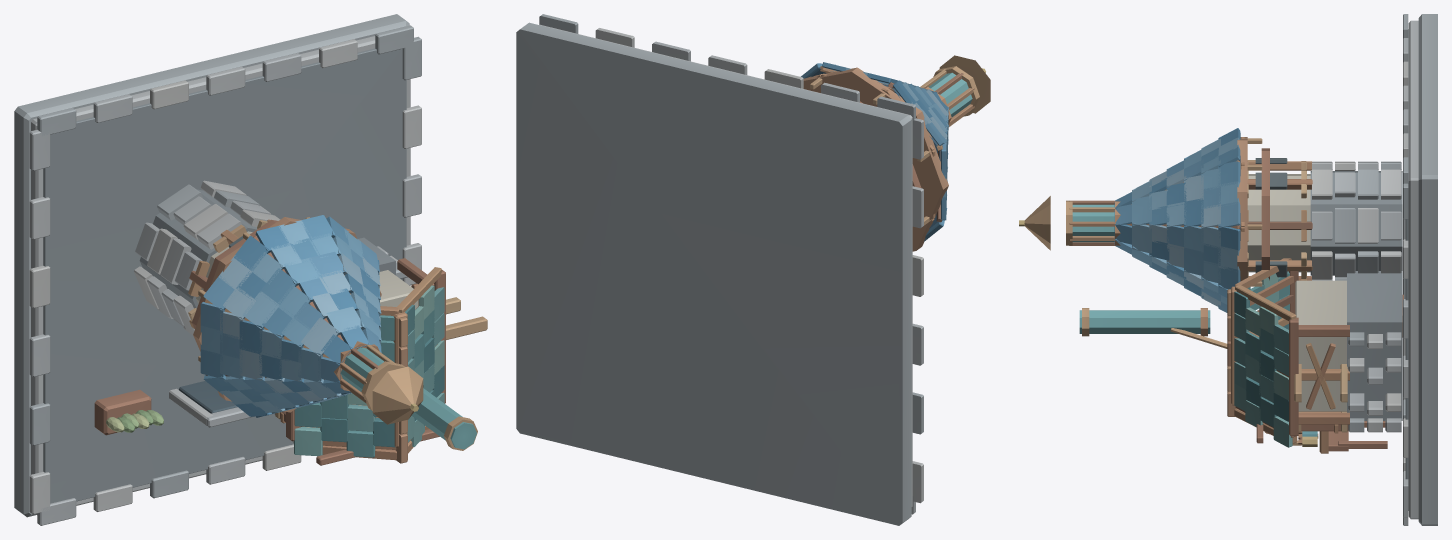
File: alchemy_tower_stage_3.glb
3 views of the same model, side by side, from view 1: azimuth 30°, elevation 25°; view 2: azimuth 150°, elevation 25°; view 3: azimuth 270°, elevation 25° (orthographic). The views are drawn at different scales.
Parts seen in each view (by area): view 1: alchemy_tower_stage_3_foundation_mortar_seam, alchemy_tower_stage_3_foundation_footing, alchemy_tower_stage_3_foundation_cap, crown_lantern_copper_roof, alchemy_tower_stage_3_main_tower_mortar_core, alchemy_tower_stage_3_vertical_glass_condenser, alchemy_tower_stage_3_herb_planter_trough, alchemy_tower_stage_3_tower_door_dark_recess, alchemy_tower_stage_3_workshop_frame_upper_infill, alchemy_tower_stage_3_foundation_left_paver_1, alchemy_tower_stage_3_foundation_left_paver_2, alchemy_tower_stage_3_foundation_left_paver_3 (+60 smaller); view 2: alchemy_tower_stage_3_foundation_footing, roof_eave_ring, alchemy_tower_stage_3_foundation_cap, crown_lantern_copper_roof, crown_lantern_glass_body; view 3: alchemy_tower_stage_3_foundation_footing, alchemy_tower_stage_3_workshop_foundation_mortar_core, alchemy_tower_stage_3_foundation_cap, alchemy_tower_stage_3_workshop_frame_upper_infill, alchemy_tower_stage_3_main_tower_timber_core, alchemy_tower_stage_3_main_tower_mortar_core, alchemy_tower_stage_3_vertical_glass_condenser, roof_eave_ring, crown_lantern_glass_body, alchemy_tower_stage_3_tower_balcony_deck, alchemy_tower_stage_3_workshop_roof_right_eave, crown_lantern_copper_roof (+21 smaller).
Part boxes in pixels (x1=…): alchemy_tower_stage_3_foundation_mortar_seam: x1=43, y1=48, x2=406, y2=503; alchemy_tower_stage_3_foundation_footing: x1=14, y1=14, x2=409, y2=517; alchemy_tower_stage_3_foundation_cap: x1=31, y1=36, x2=410, y2=514; crown_lantern_copper_roof: x1=372, y1=366, x2=423, y2=424; alchemy_tower_stage_3_main_tower_mortar_core: x1=139, y1=189, x2=257, y2=308; alchemy_tower_stage_3_vertical_glass_condenser: x1=411, y1=388, x2=476, y2=449; alchemy_tower_stage_3_herb_planter_trough: x1=94, y1=389, x2=151, y2=435; alchemy_tower_stage_3_tower_door_dark_recess: x1=179, y1=381, x2=237, y2=413; alchemy_tower_stage_3_workshop_frame_upper_infill: x1=349, y1=270, x2=418, y2=404; alchemy_tower_stage_3_foundation_left_paver_1: x1=29, y1=403, x2=50, y2=445; alchemy_tower_stage_3_foundation_left_paver_2: x1=29, y1=334, x2=50, y2=376; alchemy_tower_stage_3_foundation_left_paver_3: x1=29, y1=265, x2=50, y2=308; alchemy_tower_stage_3_foundation_footing: x1=516, y1=22, x2=911, y2=525; roof_eave_ring: x1=803, y1=67, x2=948, y2=251; alchemy_tower_stage_3_foundation_cap: x1=539, y1=24, x2=912, y2=506; crown_lantern_copper_roof: x1=939, y1=55, x2=990, y2=113; crown_lantern_glass_body: x1=929, y1=72, x2=972, y2=117; alchemy_tower_stage_3_foundation_footing: x1=1418, y1=14, x2=1437, y2=525; alchemy_tower_stage_3_workshop_foundation_mortar_core: x1=1347, y1=271, x2=1402, y2=420; alchemy_tower_stage_3_foundation_cap: x1=1408, y1=20, x2=1418, y2=519; alchemy_tower_stage_3_workshop_frame_upper_infill: x1=1295, y1=280, x2=1346, y2=411; alchemy_tower_stage_3_main_tower_timber_core: x1=1247, y1=174, x2=1310, y2=272; alchemy_tower_stage_3_main_tower_mortar_core: x1=1310, y1=171, x2=1402, y2=275; alchemy_tower_stage_3_vertical_glass_condenser: x1=1079, y1=310, x2=1210, y2=333; roof_eave_ring: x1=1237, y1=137, x2=1247, y2=280; crown_lantern_glass_body: x1=1072, y1=204, x2=1114, y2=242; alchemy_tower_stage_3_tower_balcony_deck: x1=1261, y1=148, x2=1269, y2=280; alchemy_tower_stage_3_workshop_roof_right_eave: x1=1289, y1=317, x2=1298, y2=435; crown_lantern_copper_roof: x1=1024, y1=196, x2=1050, y2=250.
Bounding box in the file's own units: 3.26 × 3.23 × 3.46.
